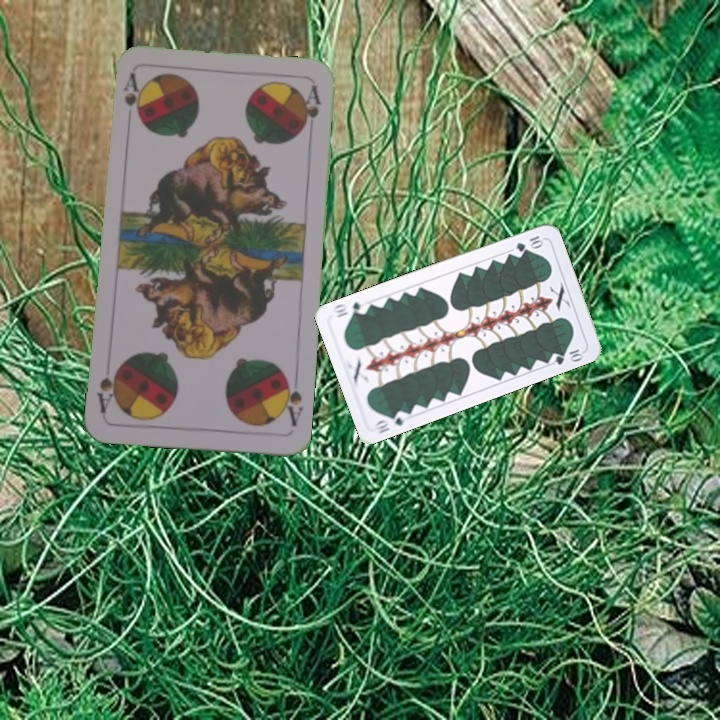G10: (371, 407, 411, 436), (512, 231, 547, 254)
SA: (277, 371, 305, 428), (119, 69, 142, 121)
